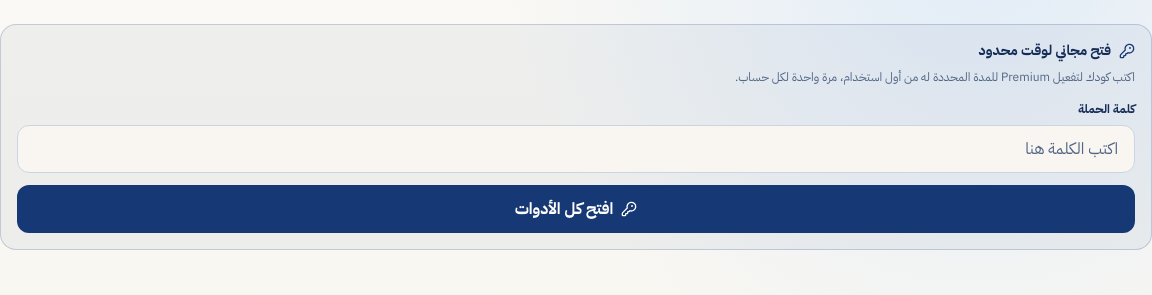
it: Ibn Al-Baytar campaign activation › submits the requested code and displays the exact returned expiry
This screenshot has width=1152, height=295.
Type "  ابن البيطار  " into the field labelled "كلمة الحملة" at (576, 149), box [17, 125, 1135, 173]
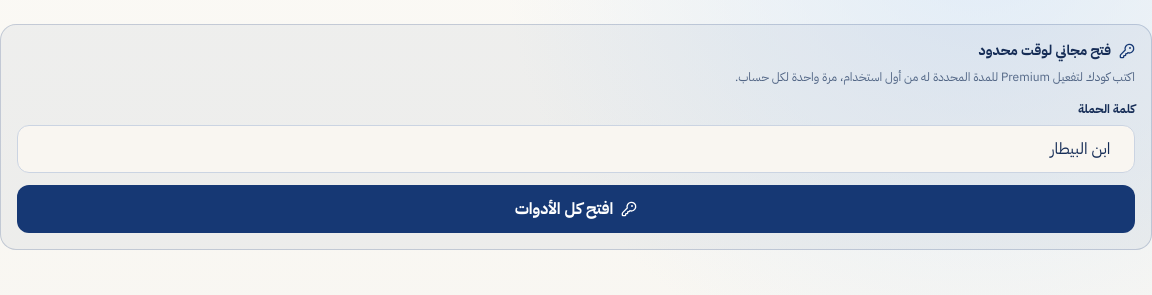
Click the button "افتح كل الأدوات" at (576, 209), box [17, 185, 1135, 233]
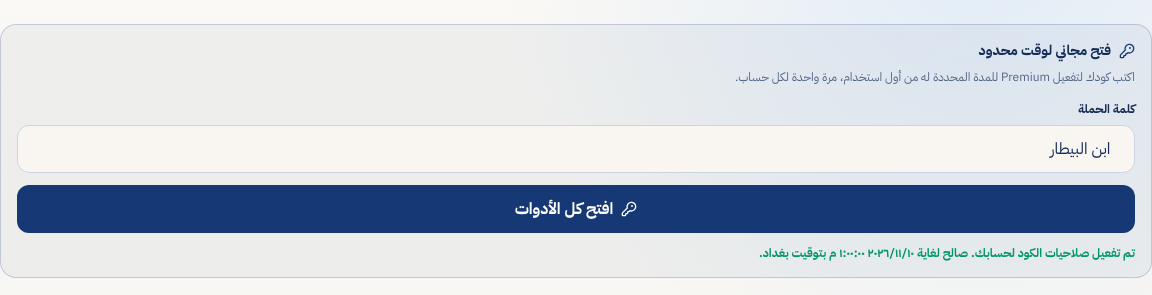
Now the message shows "صالح لغاية", box [759, 244, 1135, 262]
Now the message shows "بتوقيت بغداد", box [759, 244, 1135, 262]
